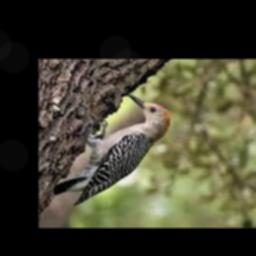Woodpecker: (53, 93, 171, 206)
